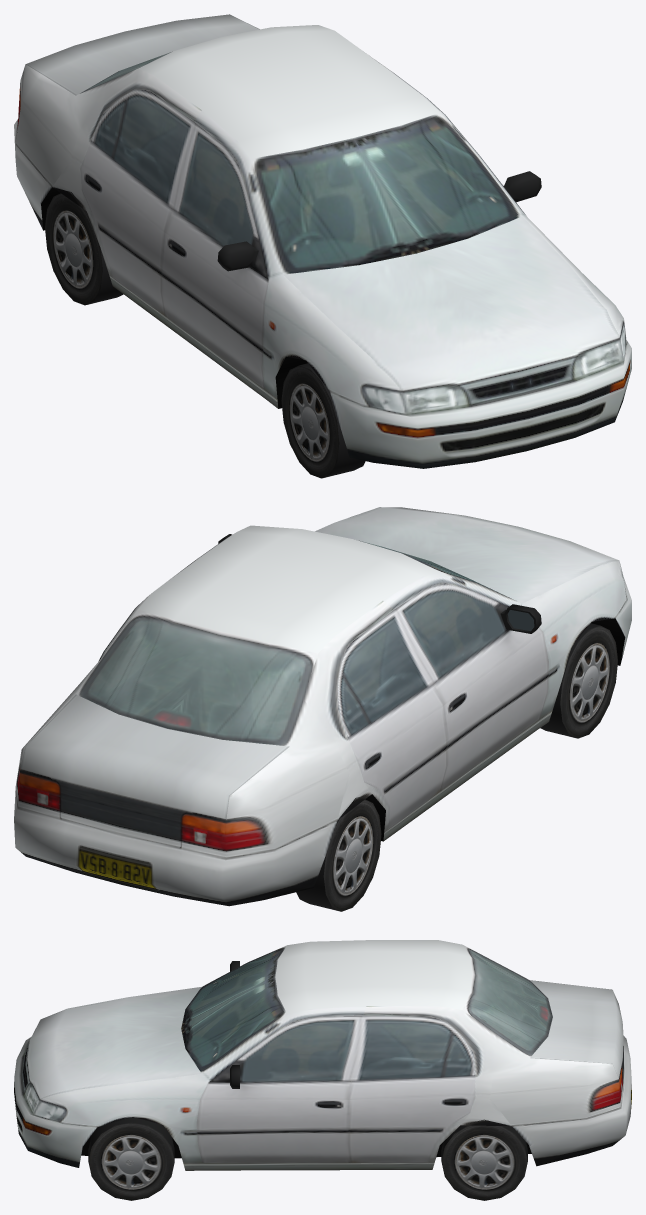
The model's file is toyota-corolla-1995.glb.
The picture shows the model from 3 angles, top to bottom: view 1: azimuth 30°, elevation 25°; view 2: azimuth 150°, elevation 25°; view 3: azimuth 270°, elevation 25°; orthographic projection. The views are drawn at different scales.
Visible parts, largest first — view 1: Plane_0; view 2: Plane_0; view 3: Plane_0.
Part boxes in pixels (x1=…): Plane_0: x1=14, y1=14, x2=631, y2=478; Plane_0: x1=14, y1=507, x2=631, y2=911; Plane_0: x1=14, y1=940, x2=631, y2=1200.
Size of the model in its own units: 1.28 by 0.9347 by 2.87.
1 material, 1 textured.
